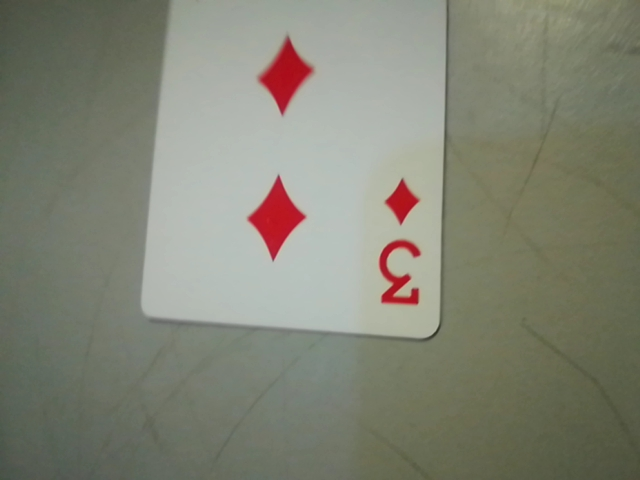fk 3: (363, 163, 435, 322)
